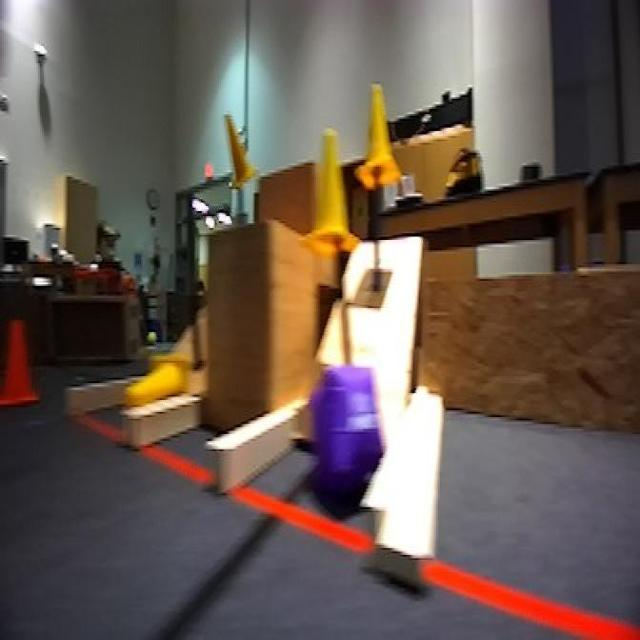frc_cone: (303, 118, 358, 254), (355, 84, 399, 190), (124, 354, 198, 414), (224, 109, 260, 187)
frc_cube: (316, 359, 391, 495)
